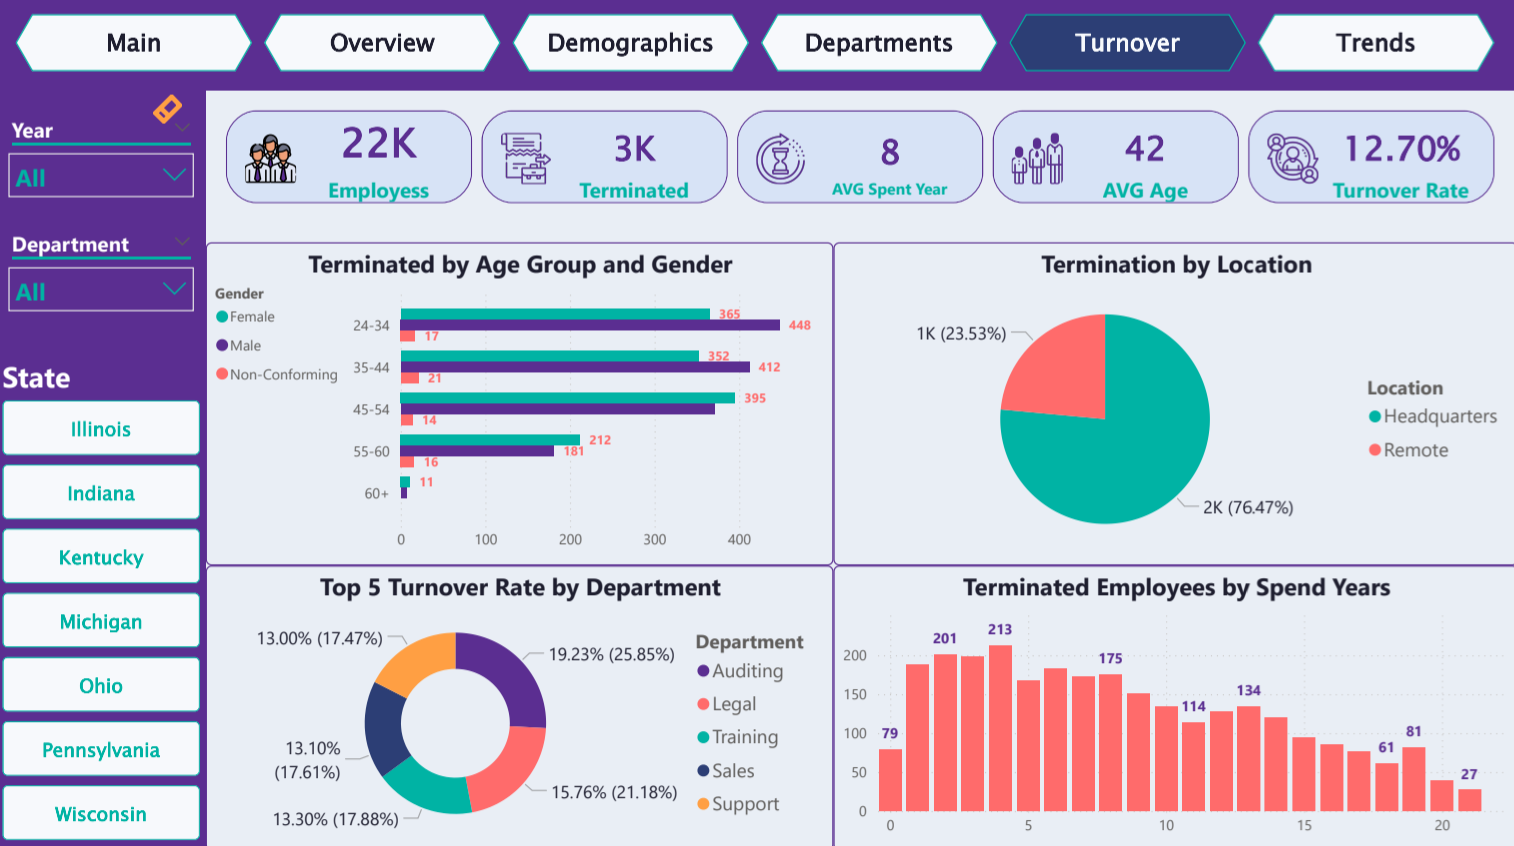

The page's visual inventory and layout, read from the dashboard file:
{"tool":"powerbi","page":{"name":"Turnover","canvas":[1280,720],"ordinal":4},"visuals":[{"type":"group","id":"g1","title":"Group 1","box":[0,0,1280,80],"z":0},{"type":"shape","box":[0,0,1280,80],"z":0,"group":"g1"},{"type":"pageNavigator","box":[16,16,1248,48],"z":1000,"group":"g1"},{"type":"group","id":"g2","title":"Group 3","box":[0,80,176,640],"z":1000},{"type":"cardVisual","fields":{"Data":["_Measures.Total_Emp","_Measures.Total_Term","_Measures.AVG_Spend_Year","_Measures.AVG_Age","_Measures.Turnover Rate"]},"box":[176,80,1104,112],"z":2000},{"type":"donutChart","title":"Top 5 Turnover Rate by Department","fields":{"Category":["Human Resources.department"],"Y":["_Measures.Turnover Rate"]},"box":[176,480,528,240],"z":3000},{"type":"columnChart","fields":{"Category":["Human Resources.Spend Years"],"Y":["_Measures.Total_Term_R"]},"box":[704,480,576,240],"z":4000},{"type":"shape","box":[0,80,176,640],"z":5000,"group":"g2"},{"type":"clusteredBarChart","fields":{"Category":["Human Resources.Age Group"],"Y":["_Measures.Total_Term"],"Series":["Human Resources.gender"]},"box":[176,208,528,272],"z":5000},{"type":"group","id":"g3","title":"Group 2","box":[0,96,176,624],"z":6000,"group":"g2"},{"type":"pieChart","fields":{"Category":["Human Resources.location"],"Y":["_Measures.Total_Term_R"]},"box":[704,208,576,272],"z":6000},{"type":"slicer","fields":{"Values":["calender_table.Year"]},"box":[0,96,176,96],"z":8000,"group":"g3"},{"type":"actionButton","box":[128,80,48,32],"z":8001,"group":"g2"},{"type":"slicer","fields":{"Values":["Human Resources.department"]},"box":[0,192,176,96],"z":9000,"group":"g3"},{"type":"advancedSlicerVisual","title":"State","fields":{"Values":["Human Resources.location_state"]},"box":[0,304,176,416],"z":10000,"group":"g3"}]}

Visuals, with their boxes in screenshot pixels (x1, y1, x2, y2), scaled from the page's 1280x720 canvas onto the 1514x846 screenshot:
"Group 1" group: BBox(0, 0, 1513, 94)
shape: BBox(0, 0, 1513, 94)
pageNavigator: BBox(19, 19, 1495, 75)
"Group 3" group: BBox(0, 94, 208, 845)
cardVisual - _Measures.Total_Emp x _Measures.Total_Term: BBox(208, 94, 1513, 226)
"Top 5 Turnover Rate by Department" donutChart: BBox(208, 564, 833, 845)
columnChart - Human Resources.Spend Years x _Measures.Total_Term_R: BBox(833, 564, 1513, 845)
shape: BBox(0, 94, 208, 845)
clusteredBarChart - Human Resources.Age Group x _Measures.Total_Term: BBox(208, 244, 833, 564)
"Group 2" group: BBox(0, 113, 208, 845)
pieChart - Human Resources.location x _Measures.Total_Term_R: BBox(833, 244, 1513, 564)
slicer - calender_table.Year: BBox(0, 113, 208, 226)
actionButton: BBox(151, 94, 208, 132)
slicer - Human Resources.department: BBox(0, 226, 208, 338)
"State" advancedSlicerVisual: BBox(0, 357, 208, 845)
